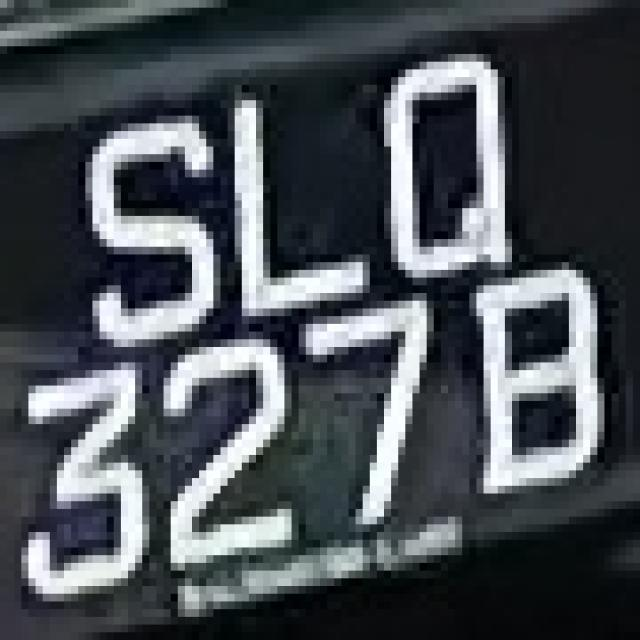2: (135, 316, 313, 594)
3: (7, 354, 157, 624)
7: (292, 278, 434, 548)
B: (476, 270, 604, 493)
L: (199, 77, 377, 339)
Q: (370, 23, 526, 301)
S: (64, 100, 213, 362)
